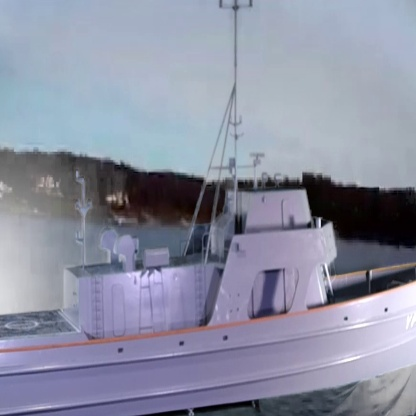YP689: (0, 0, 416, 416)
